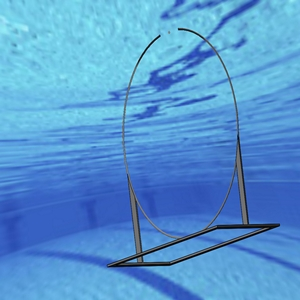circle: (106, 26, 278, 267)
